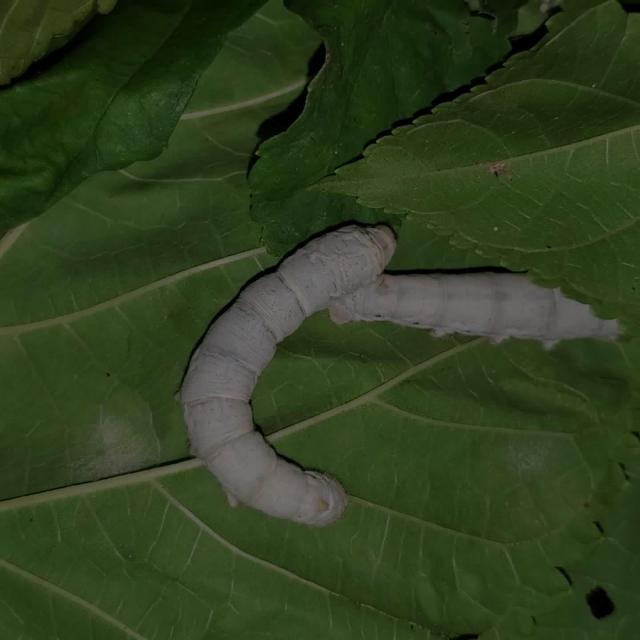Healthy: (157, 188, 640, 570)
